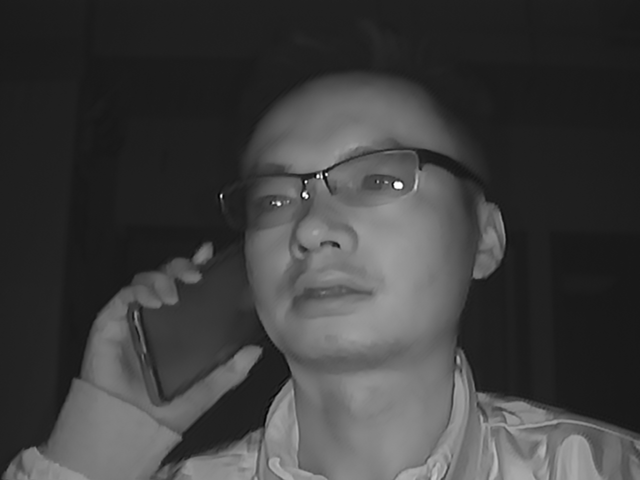hand: (88, 254, 215, 436)
